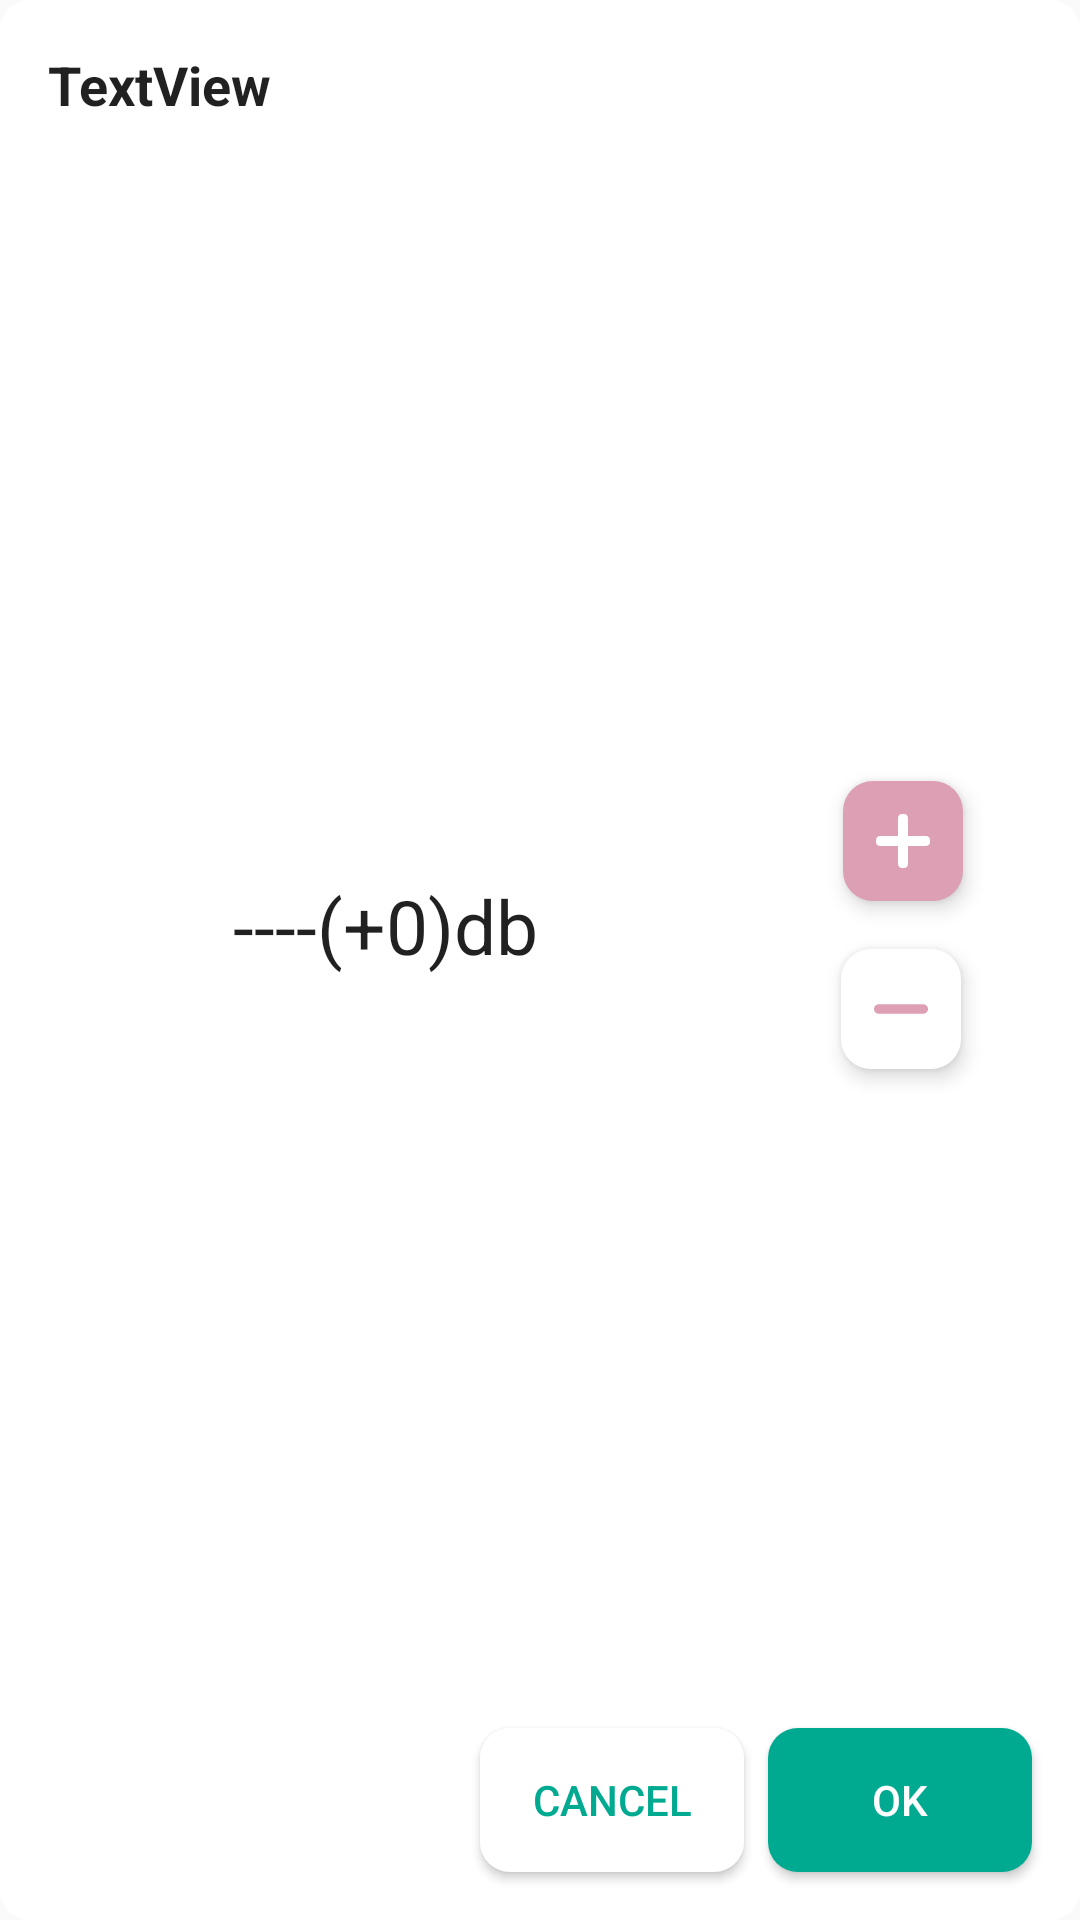

Icons on this 1080px×1920px Android screen, each with the point to tap as (x=x, y=y):
minus: (x=902, y=1036)
plus: (x=903, y=841)
